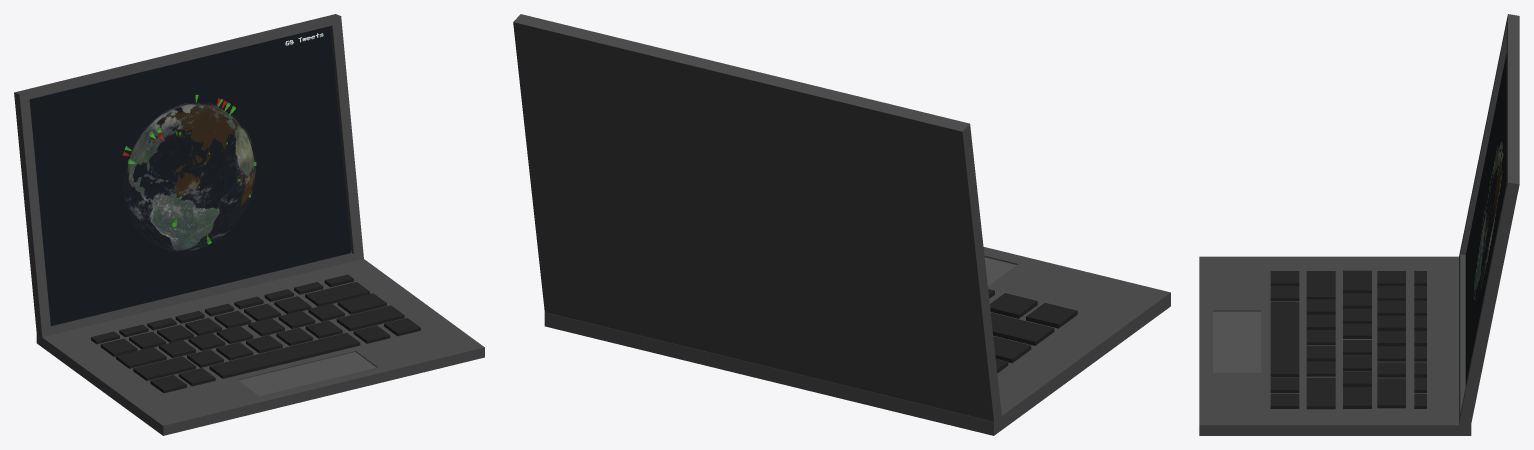
The model's file is tweets-macbook-hq.glb.
The picture shows the model from 3 angles, left to right: view 1: azimuth 30°, elevation 25°; view 2: azimuth 150°, elevation 25°; view 3: azimuth 270°, elevation 25°; orthographic projection. The views are drawn at different scales.
Visible parts, largest first — view 1: Cube.001, Cube, Cube.042, Cube.037, Cube.019, Cube.029, Cube.020, Cube.028; view 2: Cube.001, Cube, Cube.029, Cube.038, Cube.039, Cube.020; view 3: Cube, Cube.001, Cube.042, Cube.037, Cube.019, Cube.029, Cube.020, Cube.028, Cube.032, Cube.036, Cube.033, Cube.034 (+18 smaller).
Boxes of the visible parts, x1=… form: Cube.001: x1=14, y1=14, x2=363, y2=337; Cube: x1=36, y1=259, x2=484, y2=435; Cube.042: x1=209, y1=332, x2=360, y2=378; Cube.037: x1=336, y1=305, x2=404, y2=331; Cube.019: x1=305, y1=282, x2=369, y2=306; Cube.029: x1=133, y1=356, x2=195, y2=380; Cube.020: x1=116, y1=347, x2=166, y2=368; Cube.028: x1=337, y1=293, x2=386, y2=314; Cube.001: x1=513, y1=14, x2=1001, y2=423; Cube: x1=544, y1=247, x2=1170, y2=435; Cube.029: x1=990, y1=312, x2=1054, y2=345; Cube.038: x1=1026, y1=303, x2=1077, y2=328; Cube.039: x1=990, y1=293, x2=1037, y2=318; Cube.020: x1=993, y1=336, x2=1031, y2=363; Cube: x1=1199, y1=256, x2=1471, y2=435; Cube.001: x1=1459, y1=14, x2=1519, y2=426; Cube.042: x1=1270, y1=302, x2=1299, y2=377; Cube.037: x1=1306, y1=377, x2=1335, y2=409; Cube.019: x1=1377, y1=378, x2=1405, y2=408; Cube.029: x1=1306, y1=271, x2=1335, y2=299; Cube.020: x1=1343, y1=270, x2=1371, y2=293; Cube.028: x1=1343, y1=387, x2=1371, y2=408; Cube.032: x1=1306, y1=299, x2=1335, y2=314; Cube.036: x1=1306, y1=361, x2=1335, y2=376; Cube.033: x1=1306, y1=314, x2=1335, y2=329; Cube.034: x1=1306, y1=330, x2=1335, y2=345.
Bounding box in the file's own units: 5.33 × 3.74 × 4.28.
Materials: 4 (1 with a texture image).
